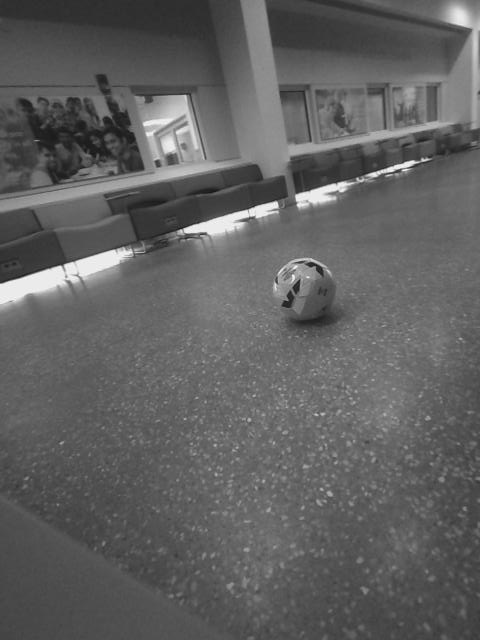ball: (265, 253, 342, 328)
